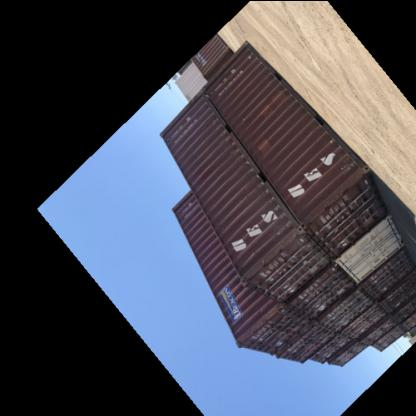Damage: (254, 236, 284, 270), (320, 186, 352, 217)
